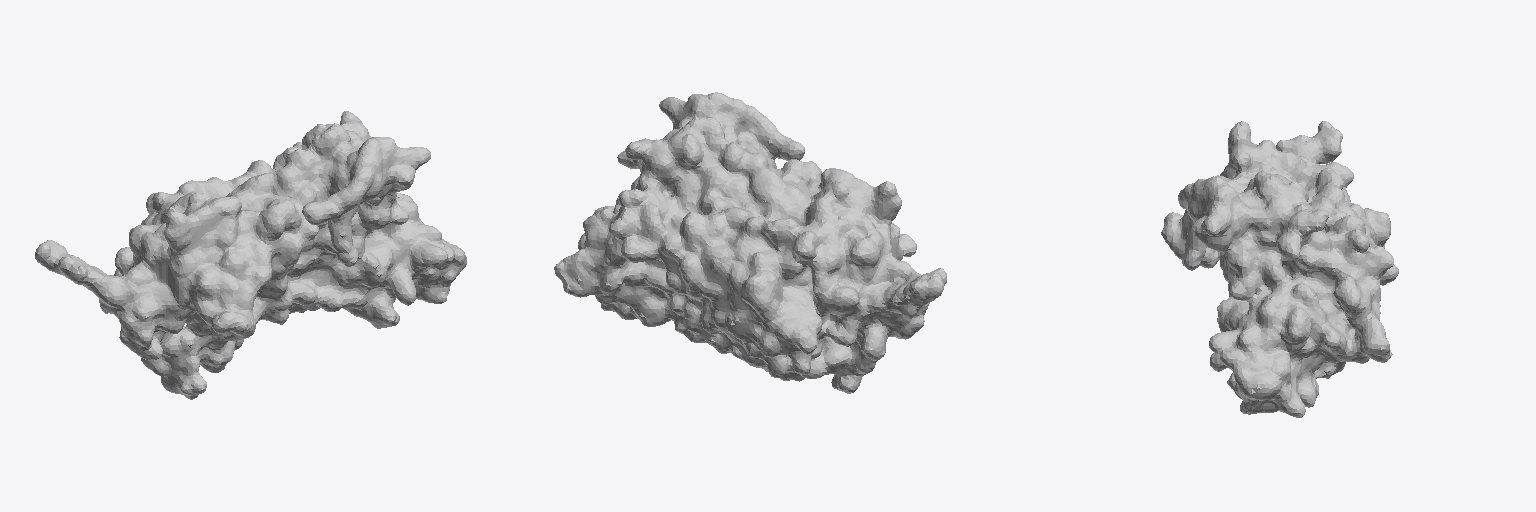
Rendered from 3dqb.obj.
3 views of the same model, side by side, from view 1: azimuth 30°, elevation 25°; view 2: azimuth 150°, elevation 25°; view 3: azimuth 270°, elevation 25° (orthographic).
Parts seen in each view (by area): view 1: test.mrc_1; view 2: test.mrc_1; view 3: test.mrc_1.
Boxes of the visible parts, box(x1,y1,x2,y2) form: test.mrc_1: box(35, 111, 466, 399); test.mrc_1: box(554, 92, 946, 393); test.mrc_1: box(1161, 121, 1398, 417).
Size of the model in its own units: 91.76 by 53.22 by 47.78.